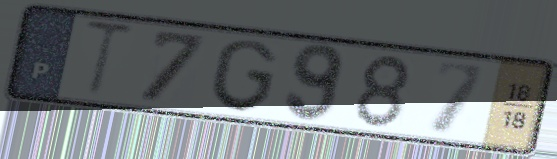7: (137, 28, 208, 106), (427, 59, 487, 137)
8: (350, 52, 416, 131)
9: (280, 41, 346, 127)
G: (207, 37, 280, 115)
T: (79, 17, 141, 103)
